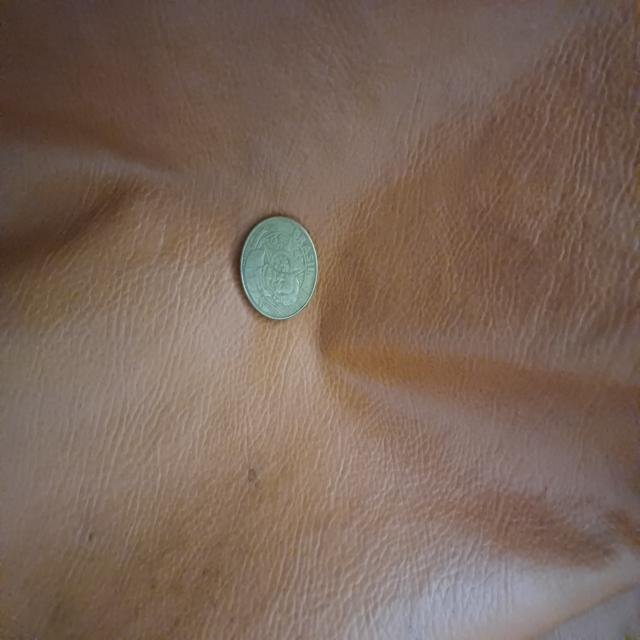25 cents: (237, 210, 318, 322)
